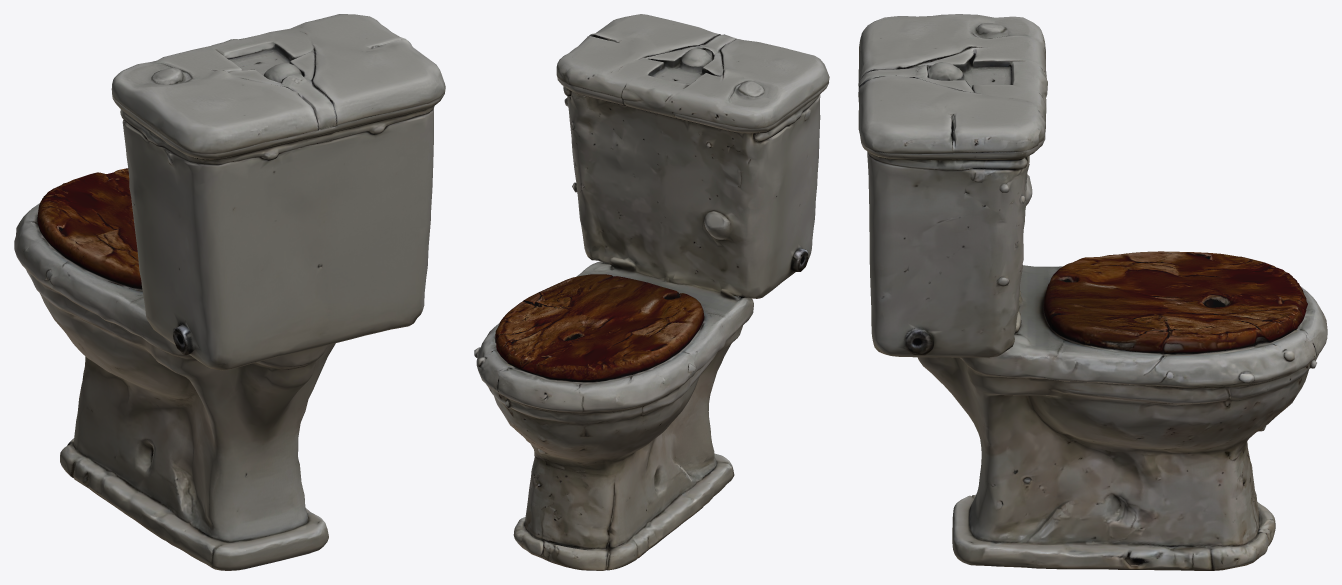
Rendered from scene-toilet-v03.glb.
The picture shows the model from 3 angles, left to right: view 1: azimuth 30°, elevation 25°; view 2: azimuth 150°, elevation 25°; view 3: azimuth 270°, elevation 25°; orthographic projection. The views are drawn at different scales.
Visible parts, largest first — view 1: tripo_node_97e80379-2140-4e90-bb40-dd26d79dcc42; view 2: tripo_node_97e80379-2140-4e90-bb40-dd26d79dcc42; view 3: tripo_node_97e80379-2140-4e90-bb40-dd26d79dcc42.
Part boxes in pixels (left/top/right/bottom): tripo_node_97e80379-2140-4e90-bb40-dd26d79dcc42: left=14, top=14, right=445, bottom=570; tripo_node_97e80379-2140-4e90-bb40-dd26d79dcc42: left=474, top=14, right=829, bottom=570; tripo_node_97e80379-2140-4e90-bb40-dd26d79dcc42: left=858, top=14, right=1327, bottom=570.
Bounding box in the file's own units: 0.4419 × 0.8 × 0.7148.
Materials: 1 (1 with a texture image).
